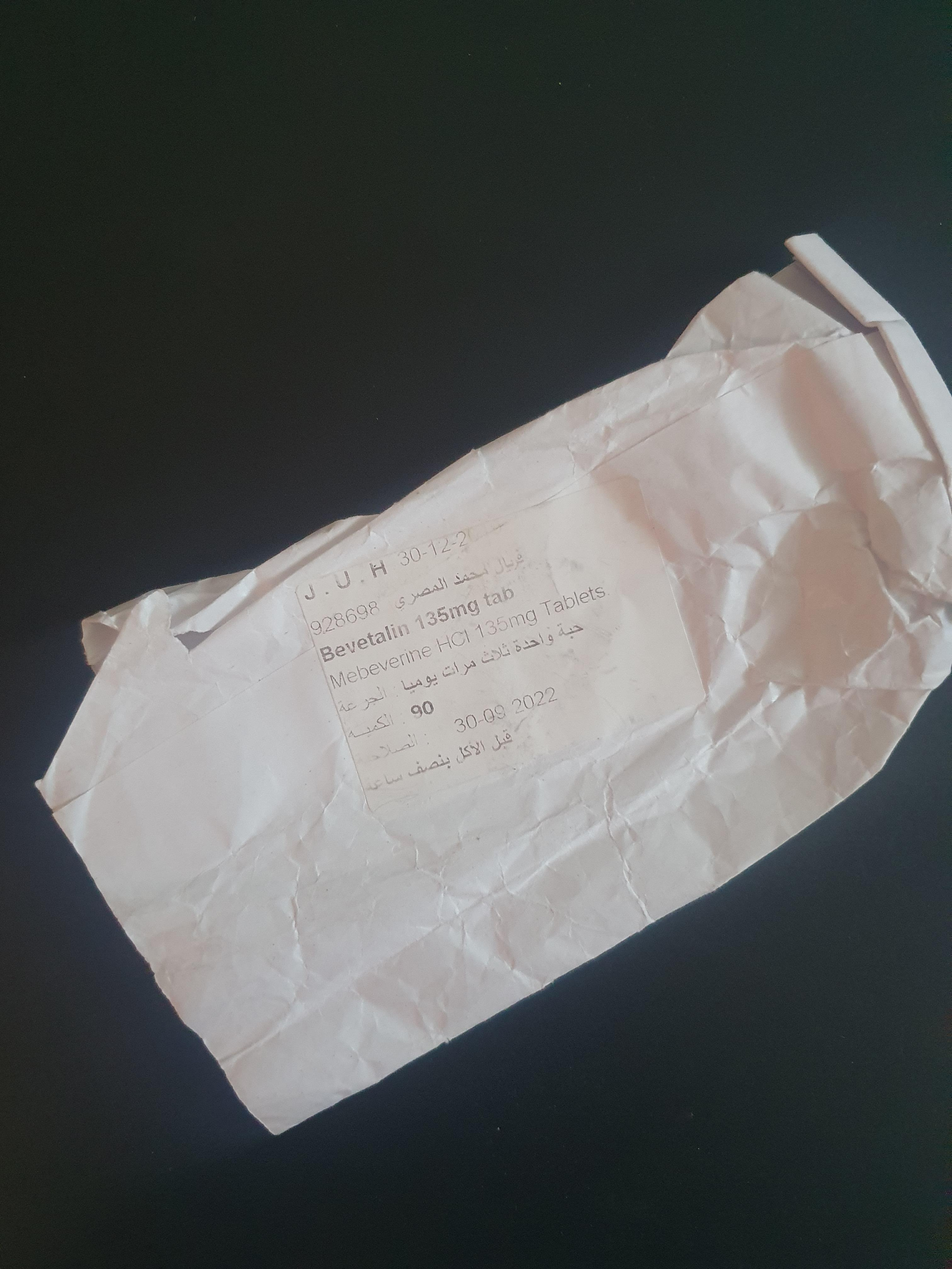paper: (47, 234, 944, 1134)
